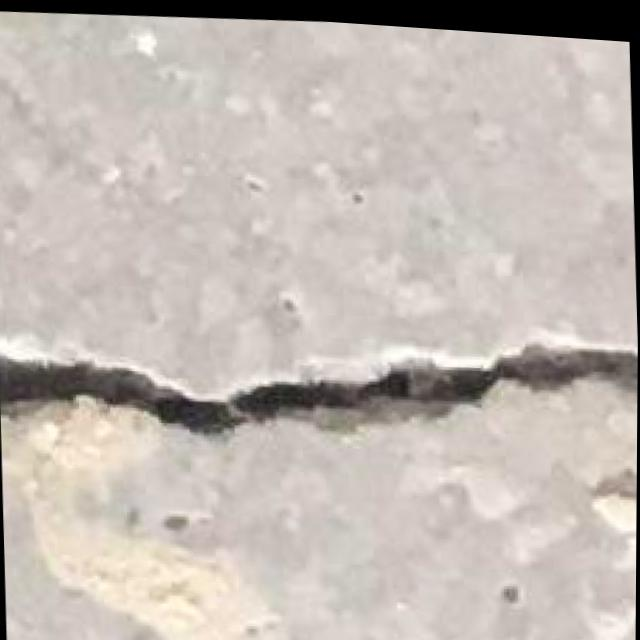Crack: (2, 268, 638, 541)
